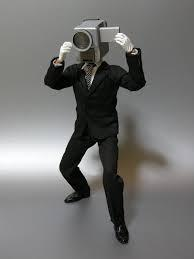no more kid: (73, 17, 122, 65)
